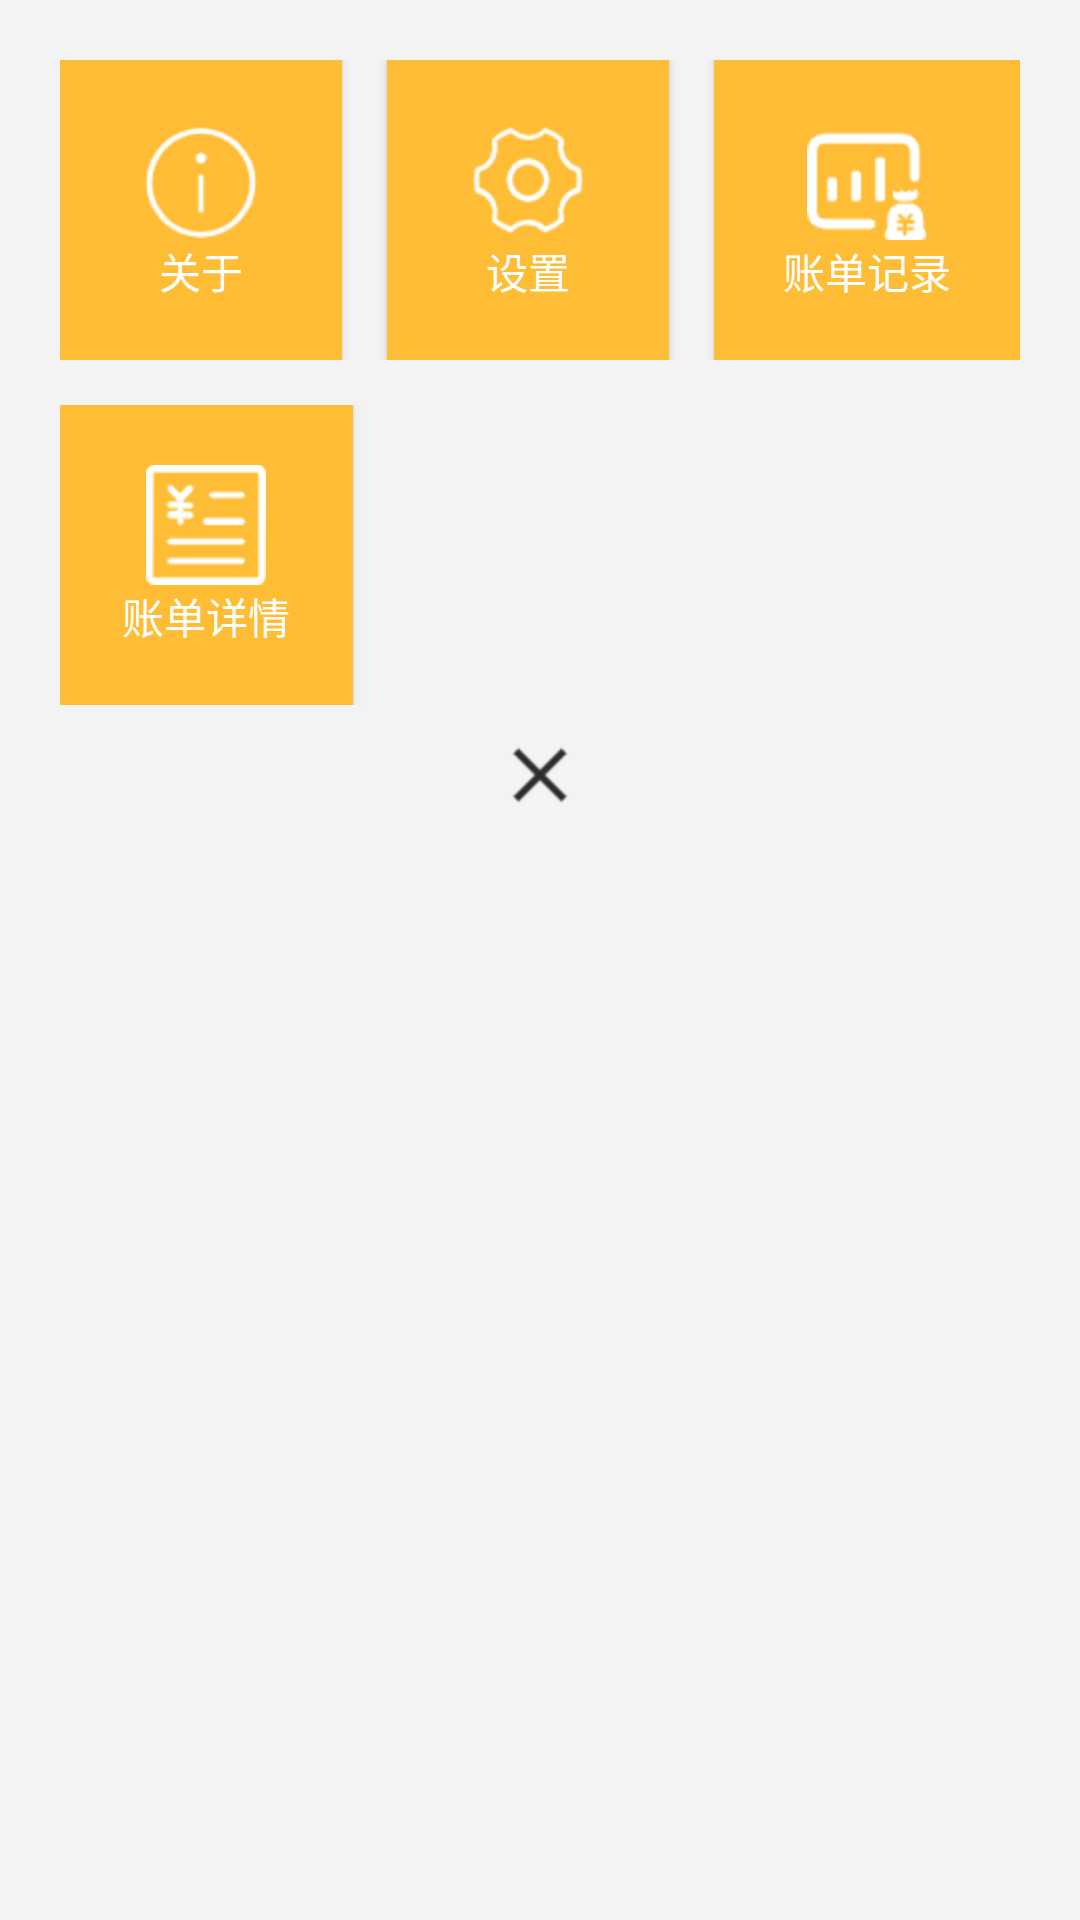

Screen size 1080px×1920px. Icon name, then its box in pixels as (x1, y1, x2, y2):
close: (513, 748, 567, 802)
